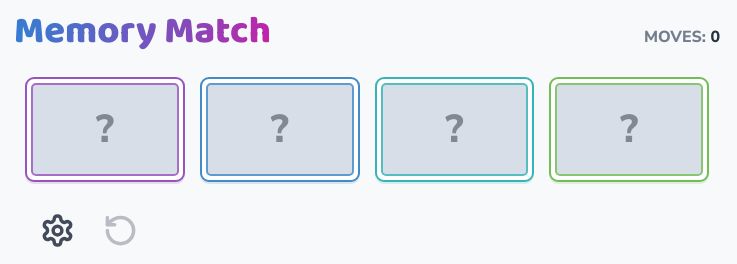
Test: app vocabulary workflow › shows the replay icon when an audio card is selected second in Memory style
Click the button named "Reveal card".
click(629, 129)  # box [549,77,709,182]
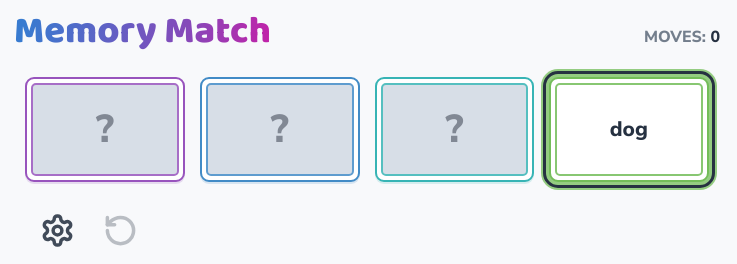
Click the button named "Reveal card".
click(280, 129)  # box [200,77,360,182]
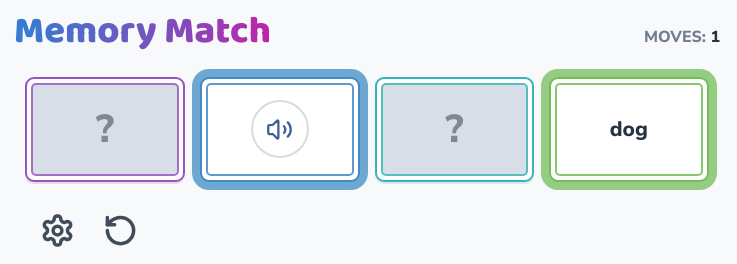
Expected: the 1st icon is shown, [266,116,293,143]
